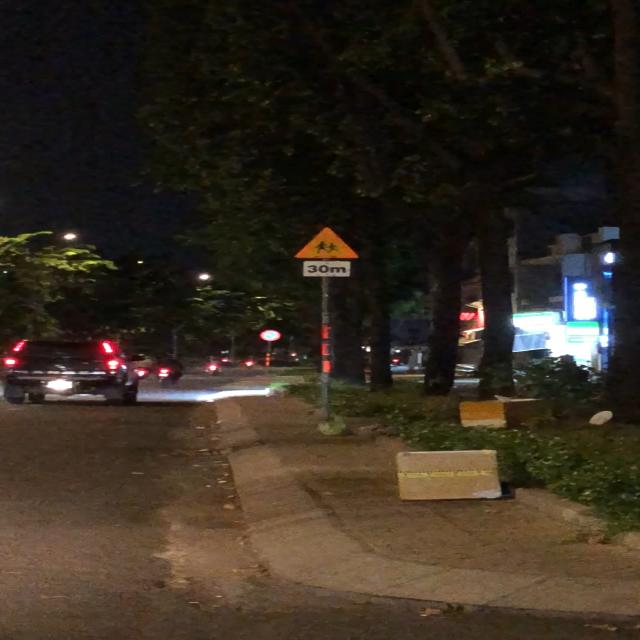Bien bao tre em: (291, 225, 356, 261)
